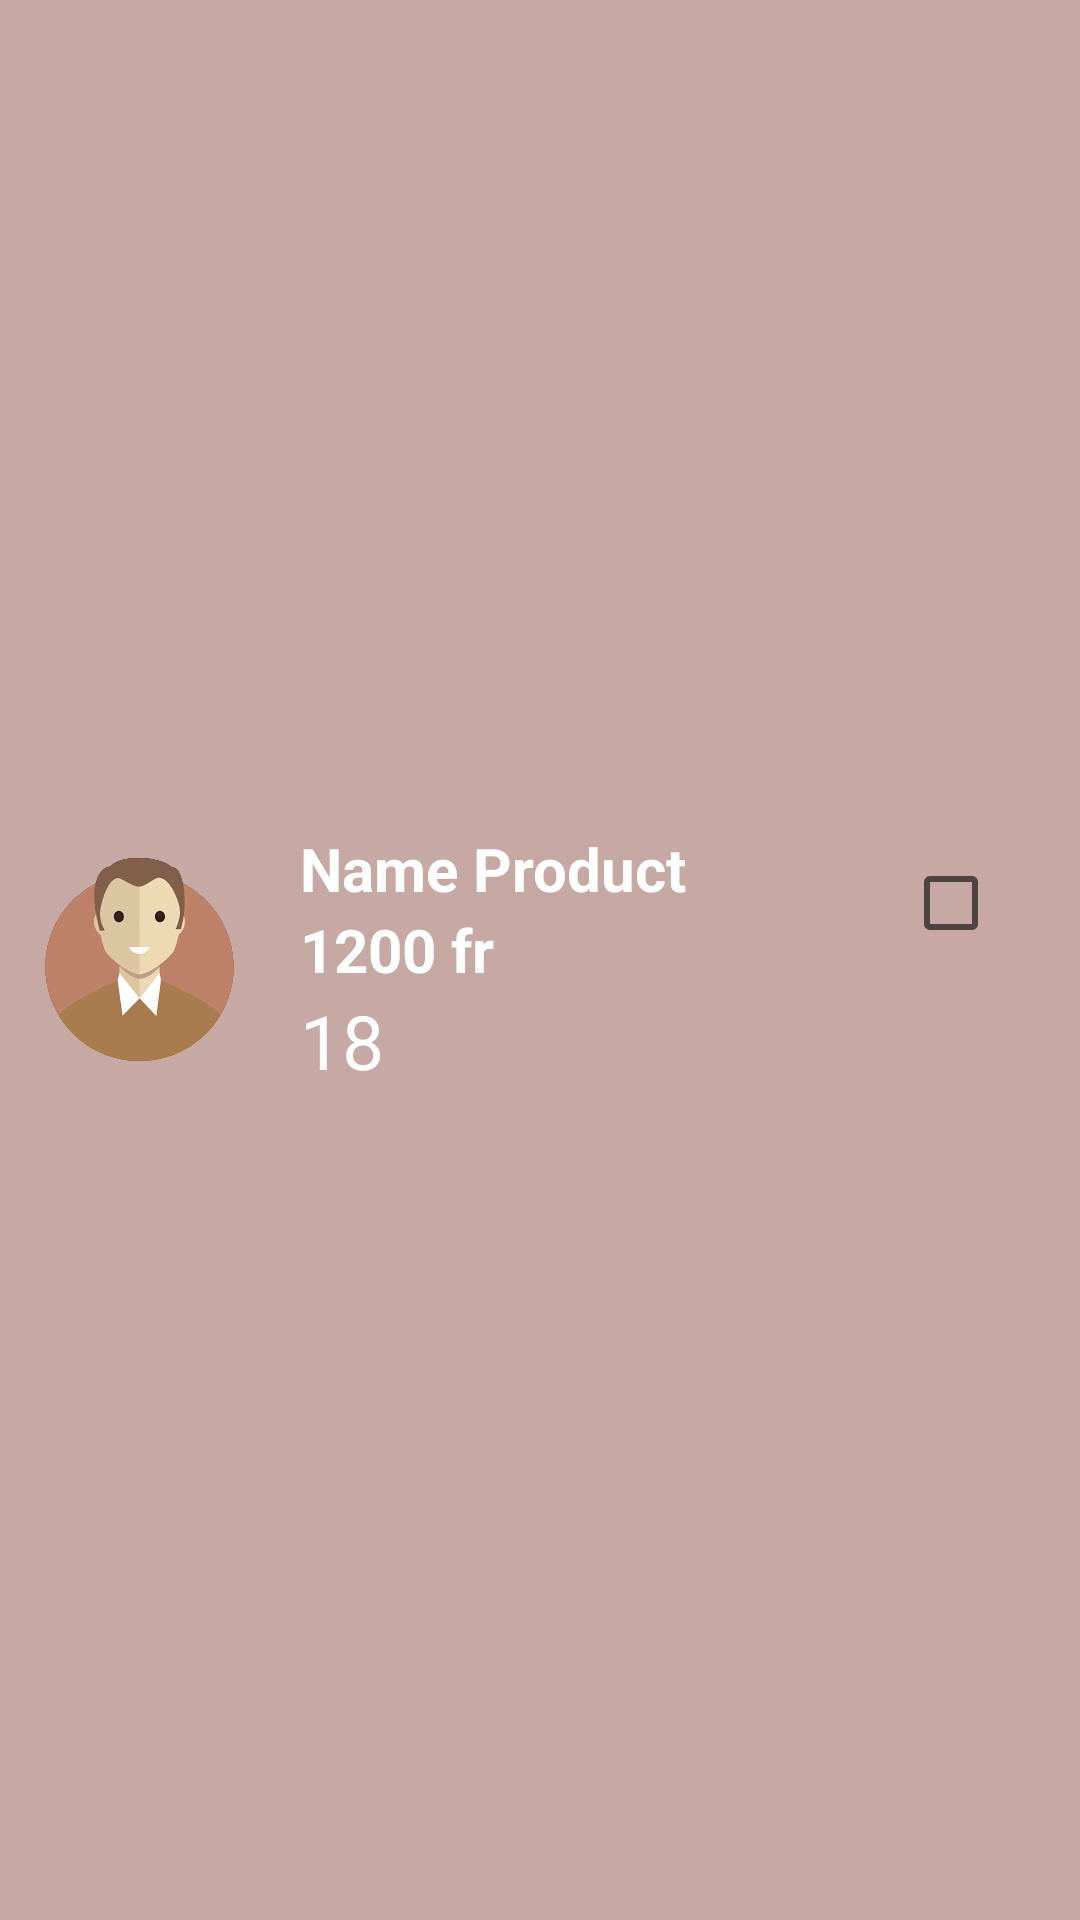

Screen size 1080w x 1920h. Icon name, then its box in pixels as (x1, y1, x2, y2):
user: (45, 858, 234, 1061)
